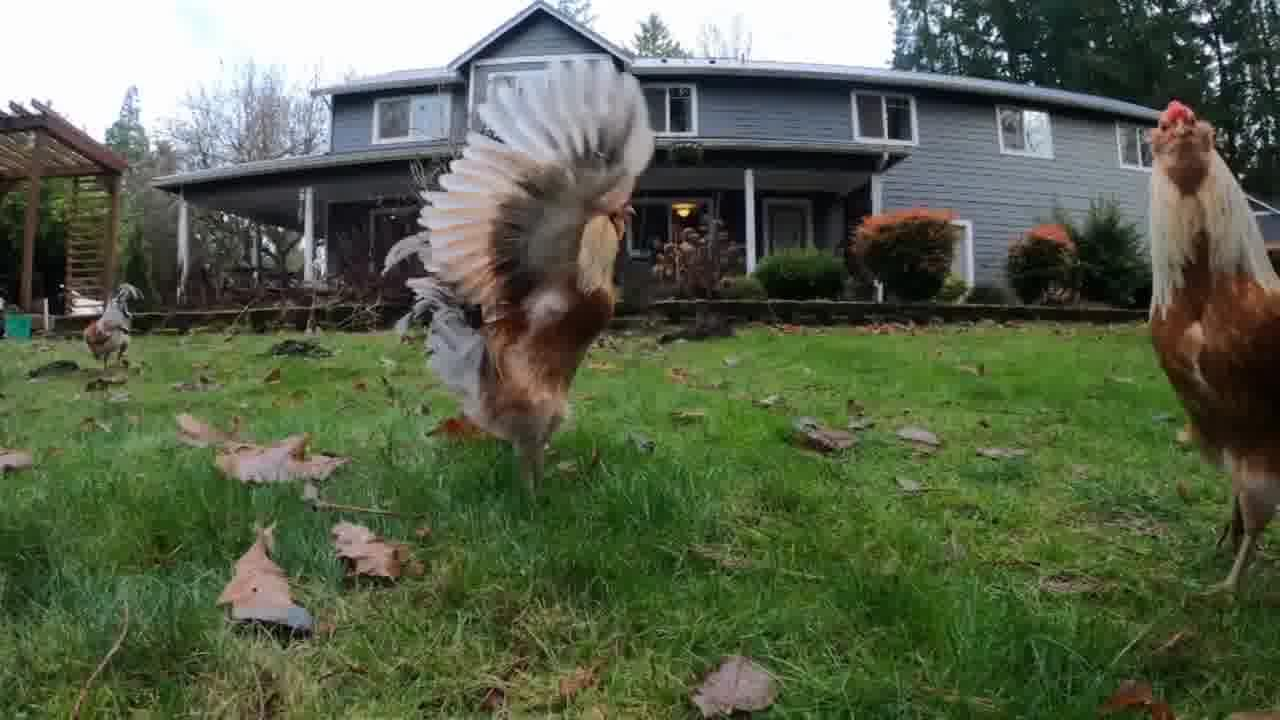Normal: (404, 58, 676, 486), (1102, 82, 1280, 590)
